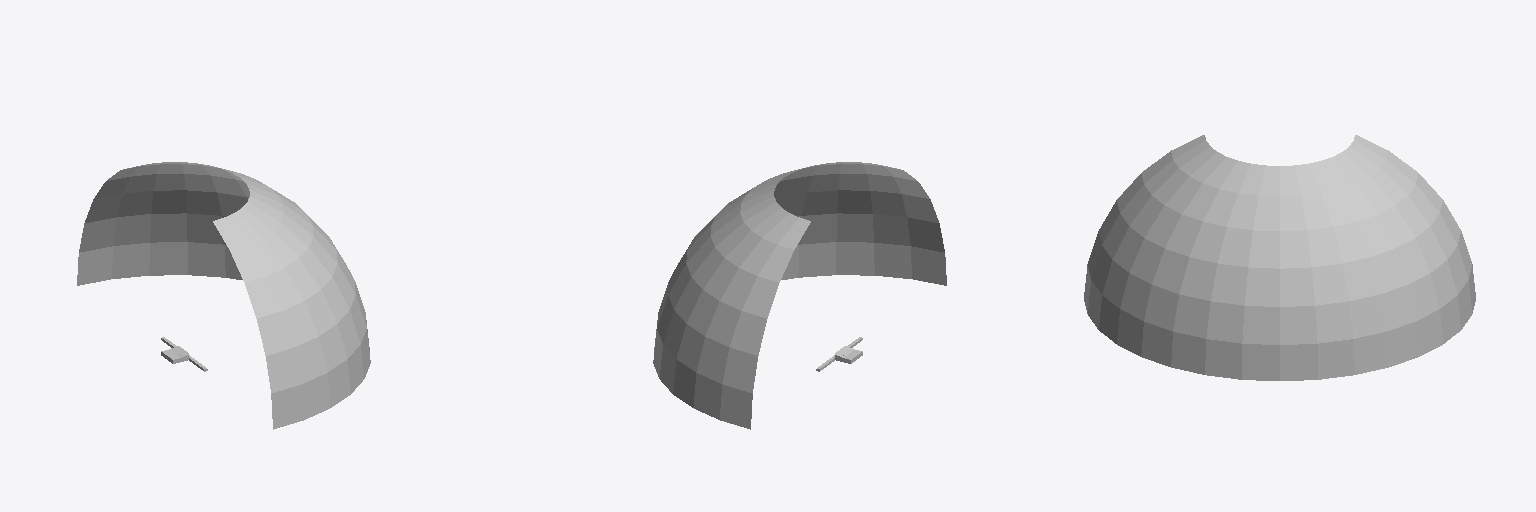
The model's file is ToyStore.obj.
3 renders of one model, left to right at view 1: azimuth 30°, elevation 25°; view 2: azimuth 150°, elevation 25°; view 3: azimuth 270°, elevation 25°, orthographic.
Visible parts, largest first — view 1: Sphere; view 2: Sphere; view 3: Sphere.
Boxes of the visible parts, x1=… form: Sphere: x1=77, y1=162, x2=370, y2=429; Sphere: x1=653, y1=162, x2=946, y2=429; Sphere: x1=1084, y1=135, x2=1475, y2=380.
Bounding box in the file's own units: 227 × 200 × 434.